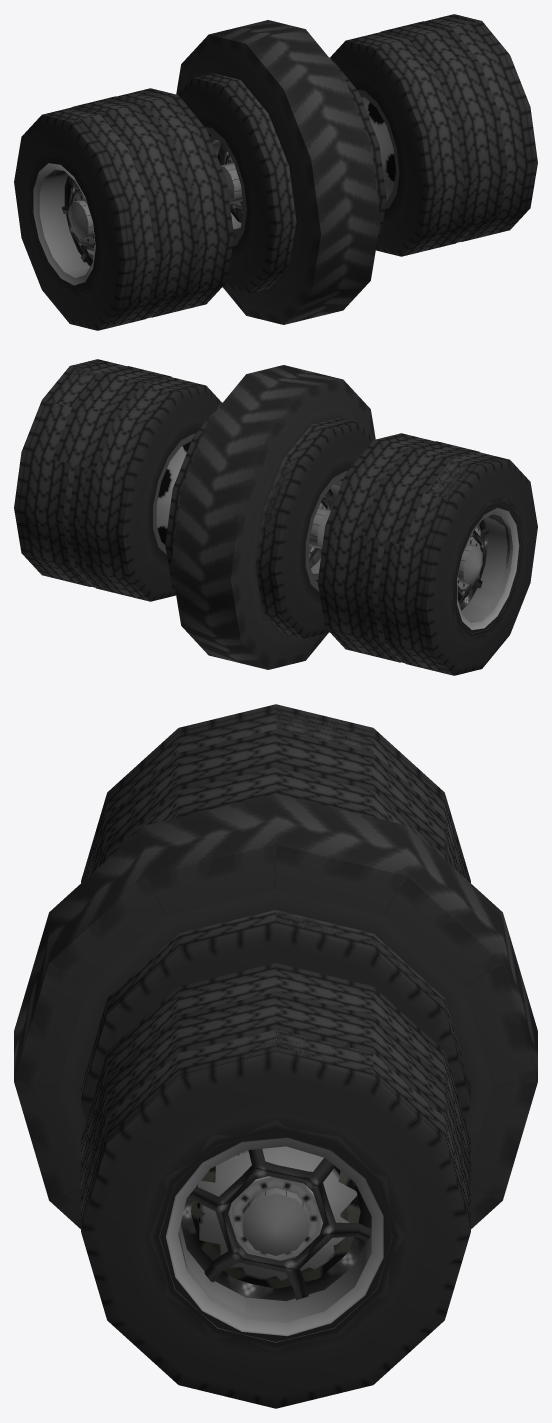
The model's file is fr_tires.fbx.
The picture shows the model from 3 angles, top to bottom: view 1: azimuth 30°, elevation 25°; view 2: azimuth 150°, elevation 25°; view 3: azimuth 270°, elevation 25°; orthographic projection. The views are drawn at different scales.
Parts seen in each view (by area): view 1: wheelhugetractor, wheelheavylargefakenormal1, wheelheavyfakemil_makeshift, wheelheavydualfakemil_makeshift, wheelheavylargefakeperformancedual1, wheelheavylargeperformancedual1, wheelheavylargefakeperformance1, wheelheavylargeolddual1, wheelheavylargenormaldual1, wheelheavylargefakeolddual1, wheelheavylargefakenormaldual1, wheelheavydualfakemil2 (+2 smaller); view 2: wheelhugetractor, wheelheavylargefakenormaldual1, wheelheavydualfakemil_makeshift, wheelheavyfakemil_makeshift, wheelheavylargefakeolddual1, wheelheavylargenormaldual1, wheelheavylargefakenormal1, wheelheavylargeolddual1, wheelheavylargefakeold1, wheelheavylargeperformancedual1, wheelheavylargefakeperformancedual1, wheelheavydualmil_makeshift (+2 smaller); view 3: wheelheavydualfakemil_makeshift, wheelhugetractor, wheelheavyfakemil_makeshift, wheelheavylargefakenormal1, wheelheavylargefakeperformancedual1, wheelheavylargefakenormaldual1, wheelheavylargeperformancedual1, wheelheavylargeolddual1, wheelheavydualfakemil2, wheelheavydualfakemil1, wheelheavylargefakeolddual1, wheelheavylargenormaldual1 (+3 smaller).
Boxes of the visible parts, x1,y1,x2,y2 form: wheelhugetractor: [176, 20, 380, 324]; wheelheavylargefakenormal1: [117, 32, 464, 314]; wheelheavyfakemil_makeshift: [67, 21, 507, 318]; wheelheavydualfakemil_makeshift: [14, 14, 537, 330]; wheelheavylargefakeperformancedual1: [69, 18, 532, 325]; wheelheavylargeperformancedual1: [191, 58, 386, 290]; wheelheavylargefakeperformance1: [363, 91, 428, 251]; wheelheavylargeolddual1: [188, 101, 259, 293]; wheelheavylargenormaldual1: [177, 57, 330, 293]; wheelheavylargefakeolddual1: [46, 56, 399, 322]; wheelheavylargefakenormaldual1: [75, 21, 481, 269]; wheelheavydualfakemil2: [27, 154, 100, 294]; wheelhugetractor: [171, 365, 375, 669]; wheelheavylargefakenormaldual1: [19, 367, 507, 637]; wheelheavydualfakemil_makeshift: [14, 359, 537, 675]; wheelheavyfakemil_makeshift: [52, 366, 484, 663]; wheelheavylargefakeolddual1: [19, 433, 510, 674]; wheelheavylargenormaldual1: [165, 403, 370, 638]; wheelheavylargefakenormal1: [116, 377, 434, 561]; wheelheavylargeolddual1: [165, 453, 360, 638]; wheelheavylargefakeold1: [136, 421, 192, 586]; wheelheavylargeperformancedual1: [193, 402, 374, 567]; wheelheavylargefakeperformancedual1: [76, 360, 503, 584]; wheelheavydualmil_makeshift: [177, 425, 315, 567]; wheelheavydualfakemil_makeshift: [81, 704, 470, 1408]; wheelhugetractor: [14, 793, 537, 1228]; wheelheavyfakemil_makeshift: [80, 729, 470, 1288]; wheelheavylargefakenormal1: [81, 767, 373, 1166]; wheelheavylargefakeperformancedual1: [81, 709, 373, 1315]; wheelheavylargefakenormaldual1: [178, 709, 470, 1317]; wheelheavylargeperformancedual1: [81, 910, 373, 1120]; wheelheavylargeolddual1: [81, 926, 470, 1120]; wheelheavydualfakemil2: [149, 1119, 405, 1353]; wheelheavydualfakemil1: [149, 1120, 404, 1353]; wheelheavylargefakeolddual1: [178, 1180, 371, 1301]; wheelheavylargenormaldual1: [270, 911, 470, 1102].
Bounding box in the file's own units: 233 × 143 × 143.
